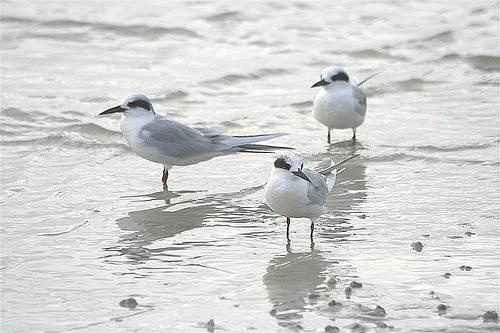bird: (99, 94, 293, 193), (259, 149, 367, 246), (311, 64, 368, 145)
